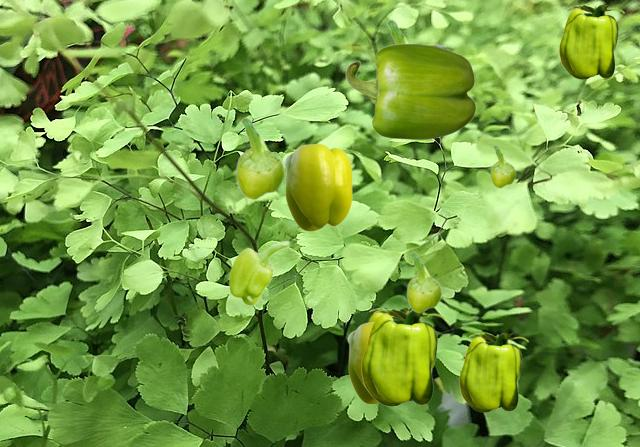bell_pepper: (345, 43, 475, 139), (361, 309, 444, 405), (284, 143, 351, 230), (459, 333, 527, 411), (559, 5, 623, 78), (235, 117, 284, 199), (228, 240, 289, 305), (347, 321, 378, 403), (406, 252, 441, 312), (490, 145, 515, 187), (368, 308, 426, 321), (386, 19, 410, 43)
